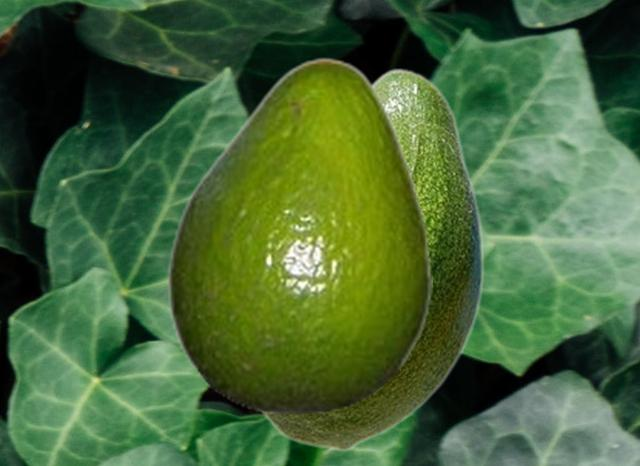avocado: (166, 56, 431, 412), (259, 67, 484, 451)
